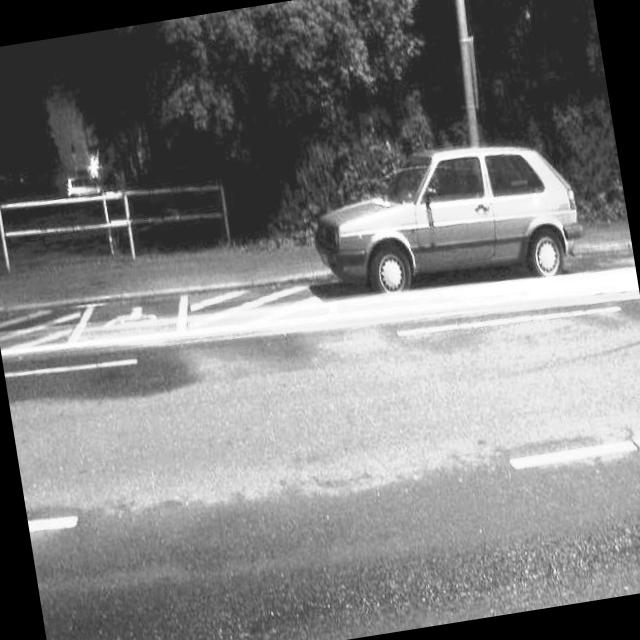Car: (286, 125, 621, 336)
